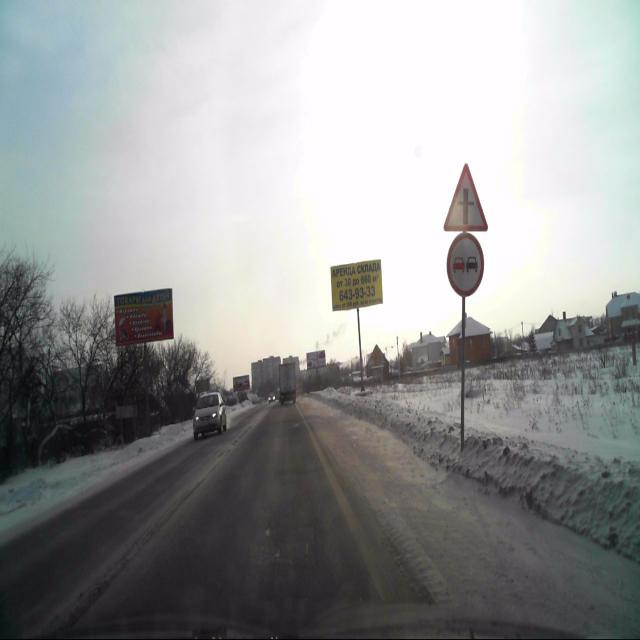object: (460, 299, 465, 454)
road sign: (442, 161, 488, 232)
